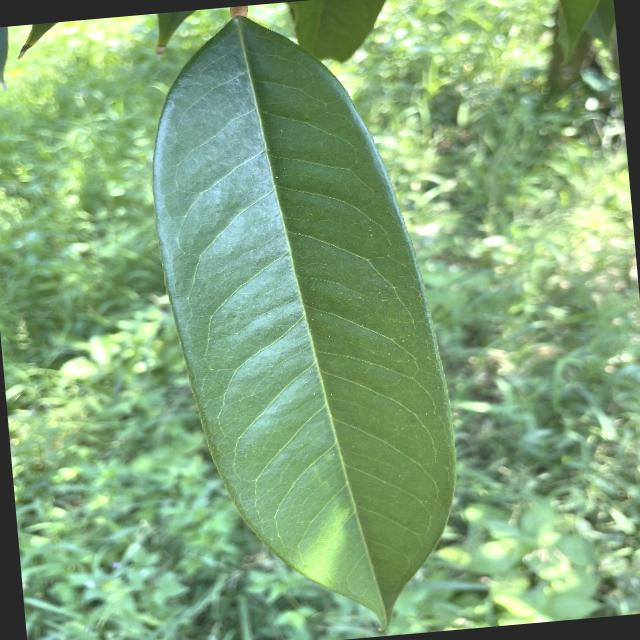No Disease: (130, 0, 489, 639)
